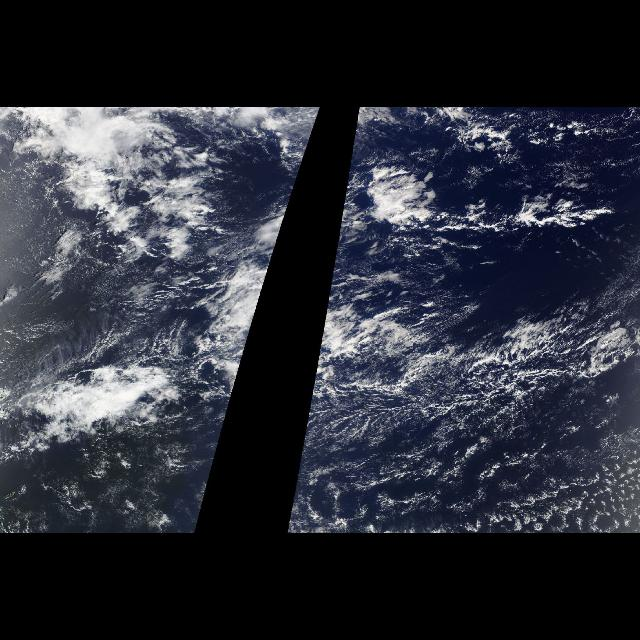Fish: (307, 276, 639, 418), (255, 276, 267, 312)
Flower: (386, 441, 640, 534)
Gravel: (315, 428, 639, 534)
Sugar: (300, 301, 638, 533), (16, 429, 202, 528), (7, 280, 175, 378)
